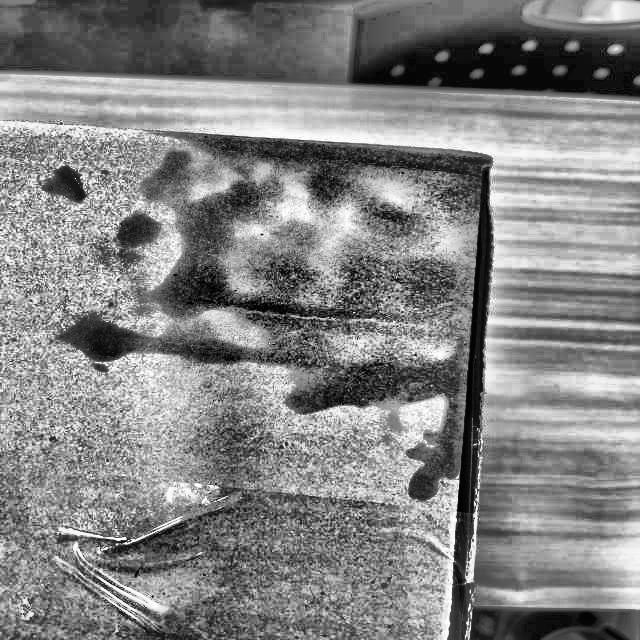box: (0, 119, 496, 639)
wet: (115, 136, 497, 488)
